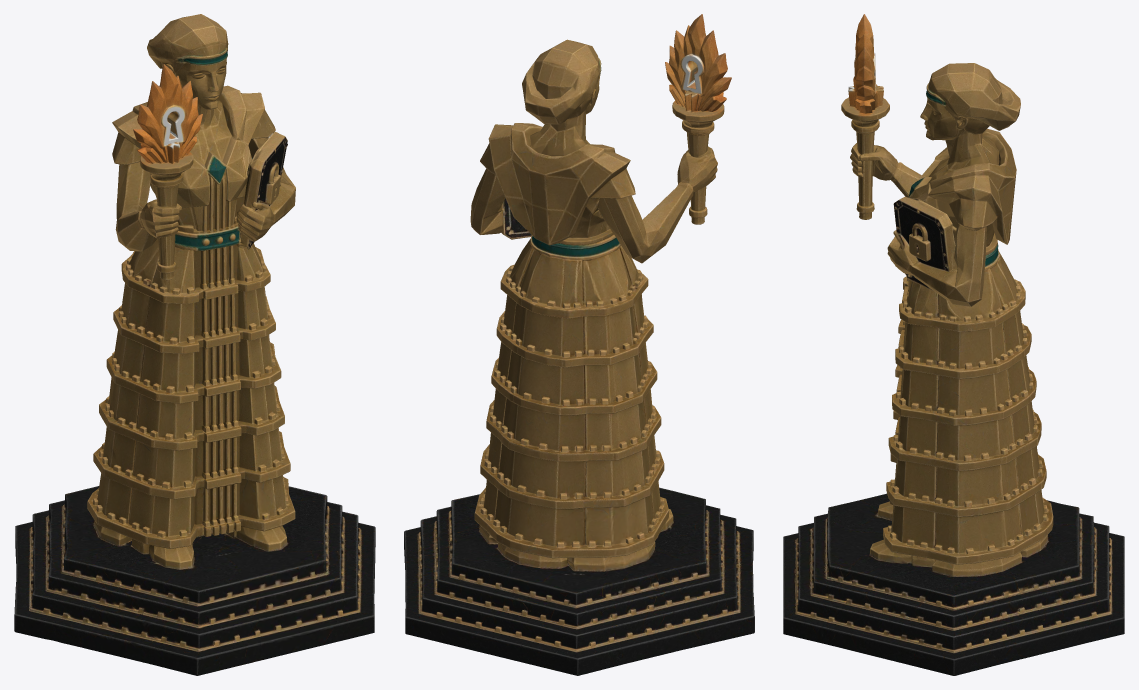
The model's file is liberty.glb.
The picture shows the model from 3 angles, left to right: view 1: azimuth 30°, elevation 25°; view 2: azimuth 150°, elevation 25°; view 3: azimuth 270°, elevation 25°; orthographic projection. The views are drawn at different scales.
Bounding box in the file's own units: 1.24 × 1.9 × 1.08.
1 material, 1 textured.
